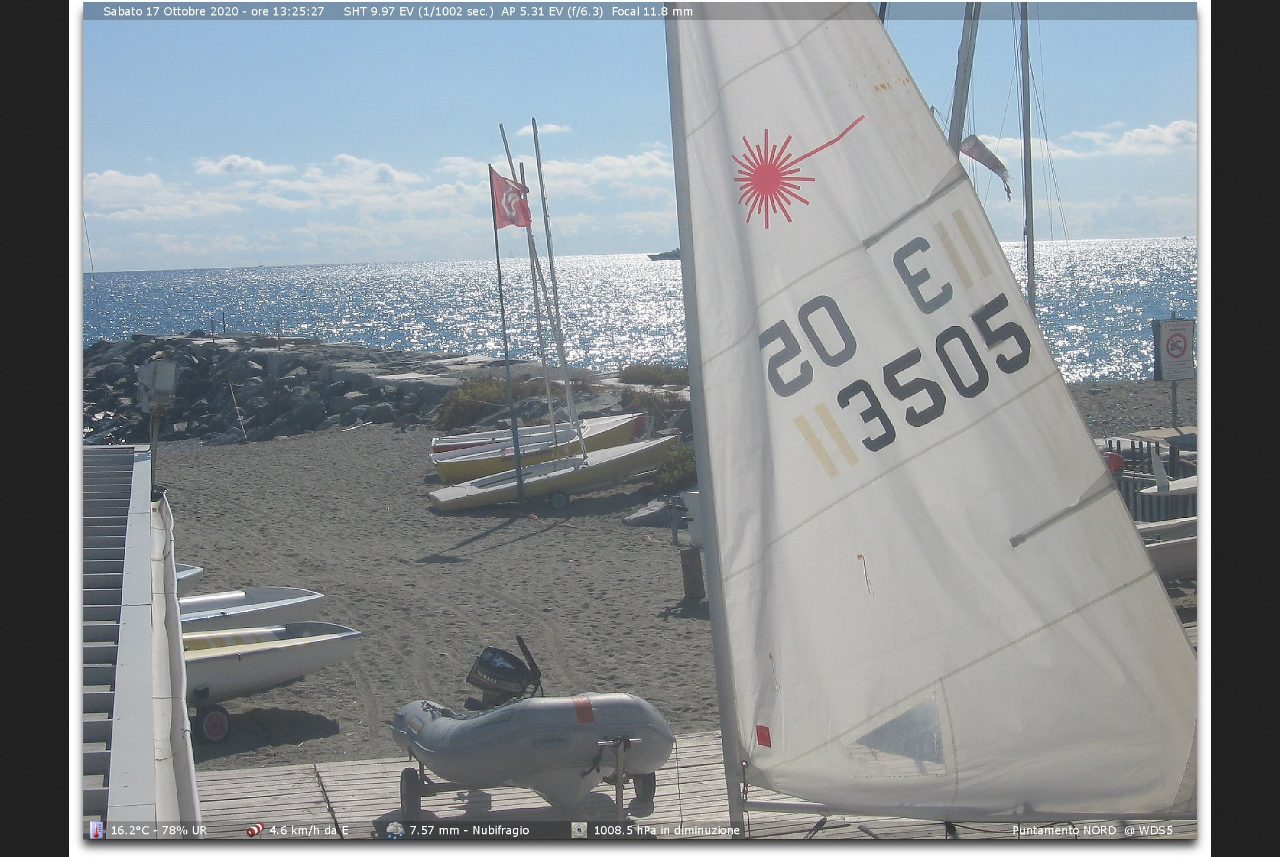yes: (481, 156, 540, 235)
